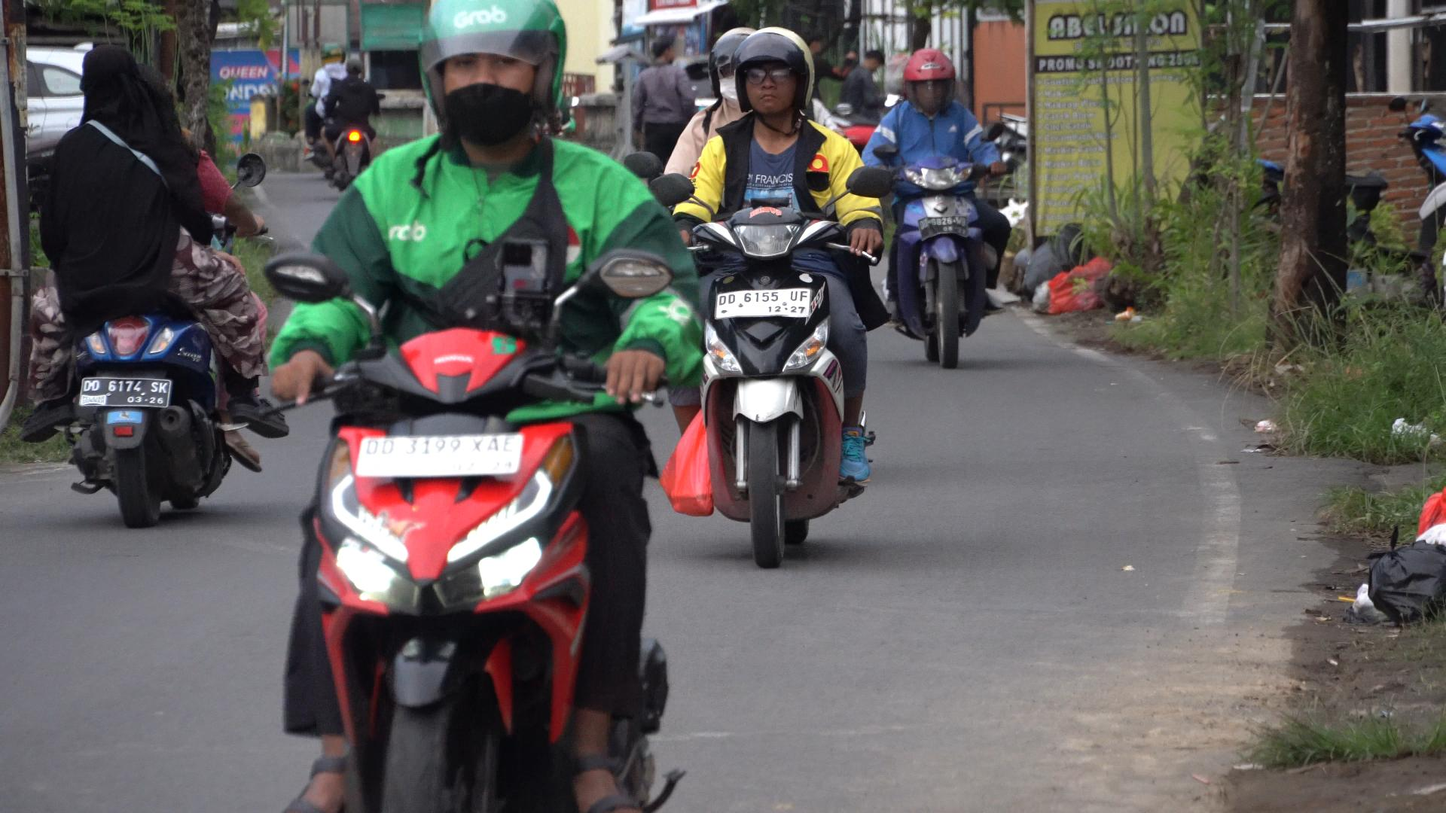number-plate: (712, 289, 812, 325)
